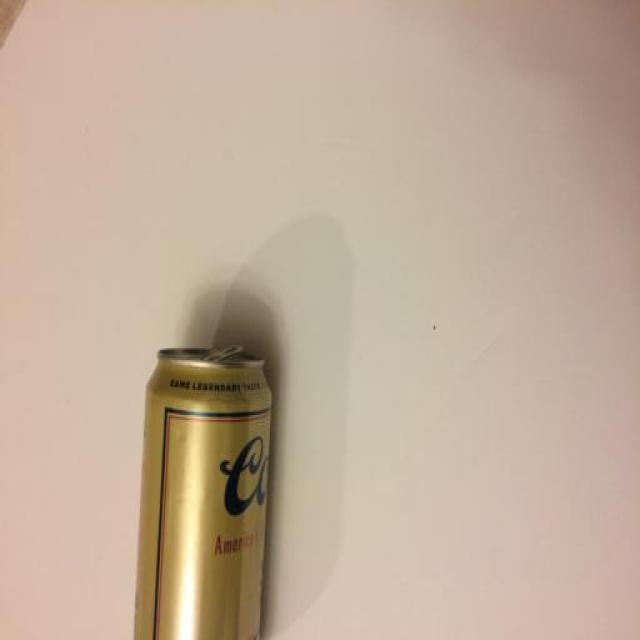metel: (136, 351, 268, 640)
